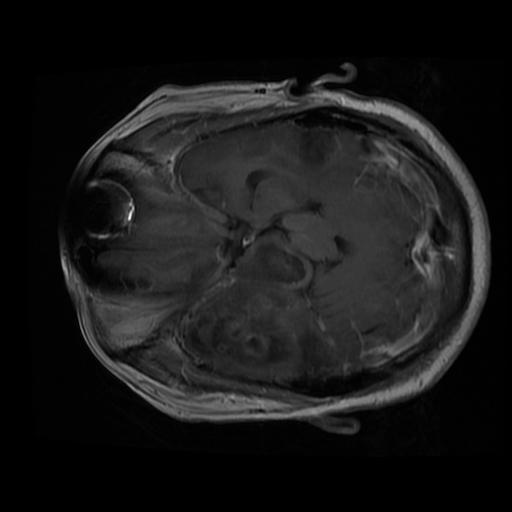glioma: (181, 278, 343, 383)
